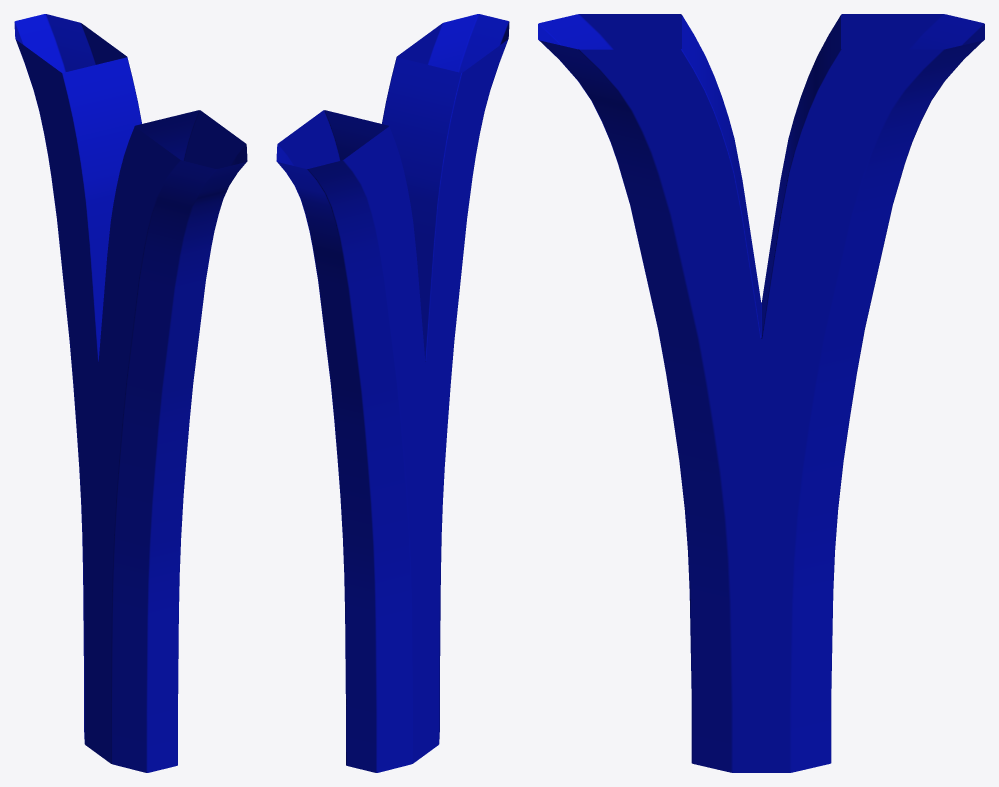
The model's file is TramBridge_Concrete_03.FBX.
3 views of the same model, side by side, from view 1: azimuth 30°, elevation 25°; view 2: azimuth 150°, elevation 25°; view 3: azimuth 270°, elevation 25° (orthographic). The views are drawn at different scales.
Visible parts, largest first — view 1: TramBridge_Concrete_03_LOD0; view 2: TramBridge_Concrete_03_LOD0; view 3: TramBridge_Concrete_03_LOD0.
Part boxes in pixels (x1,y1,x2,y2): TramBridge_Concrete_03_LOD0: [14, 14, 247, 772]; TramBridge_Concrete_03_LOD0: [276, 14, 509, 772]; TramBridge_Concrete_03_LOD0: [538, 14, 984, 772].
Bounding box in the file's own units: 100 × 950 × 532.
